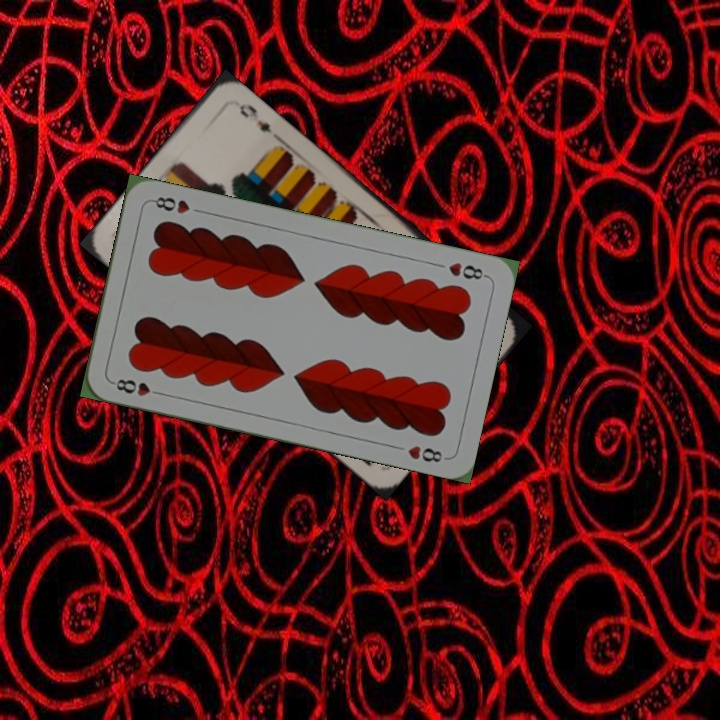H8: (108, 374, 166, 399), (444, 258, 490, 283)
